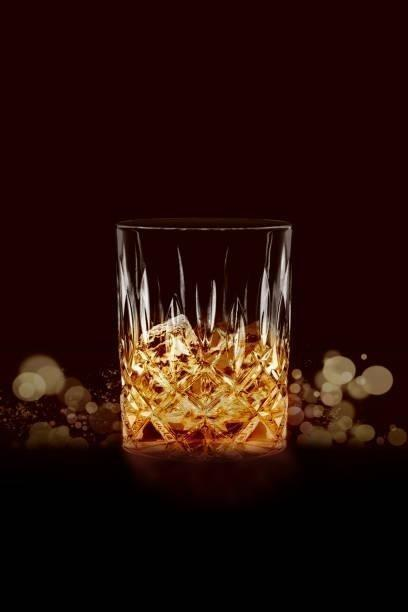glass-normal: (112, 214, 295, 461)
